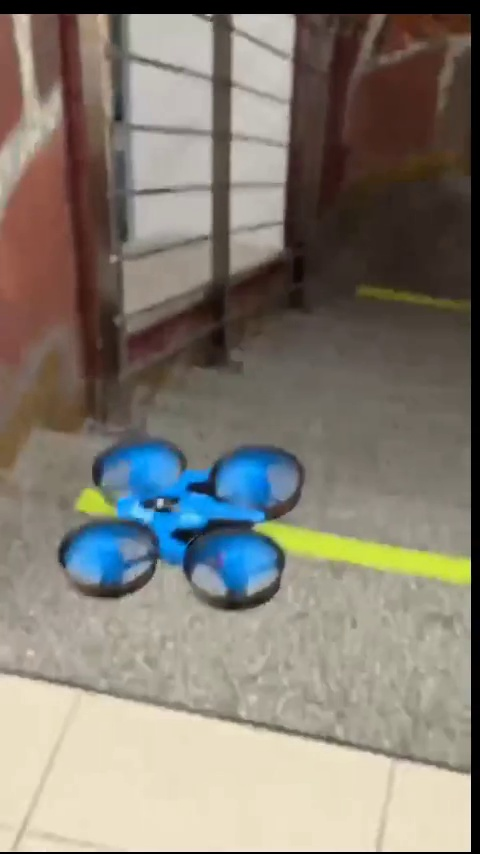drone: (62, 442, 304, 614)
